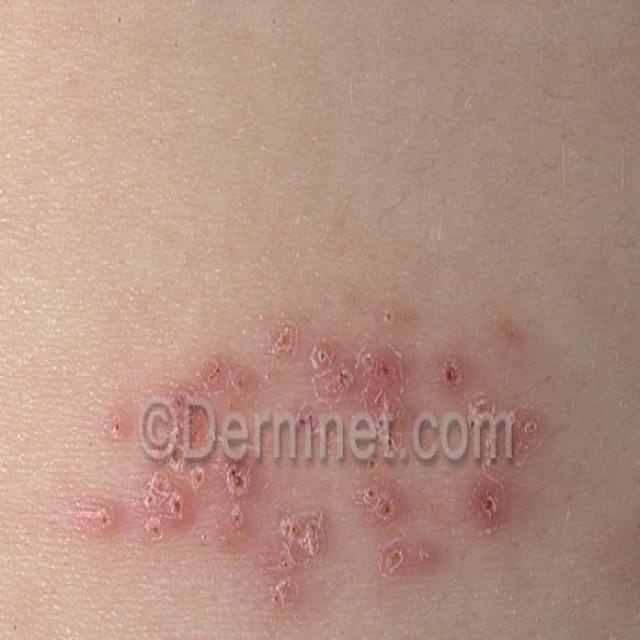Viral Infections: (71, 310, 561, 617)
